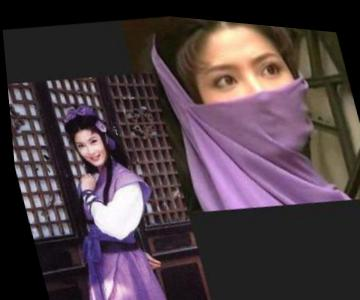NONE: (71, 130, 107, 169)
WRONG: (186, 28, 318, 166)
